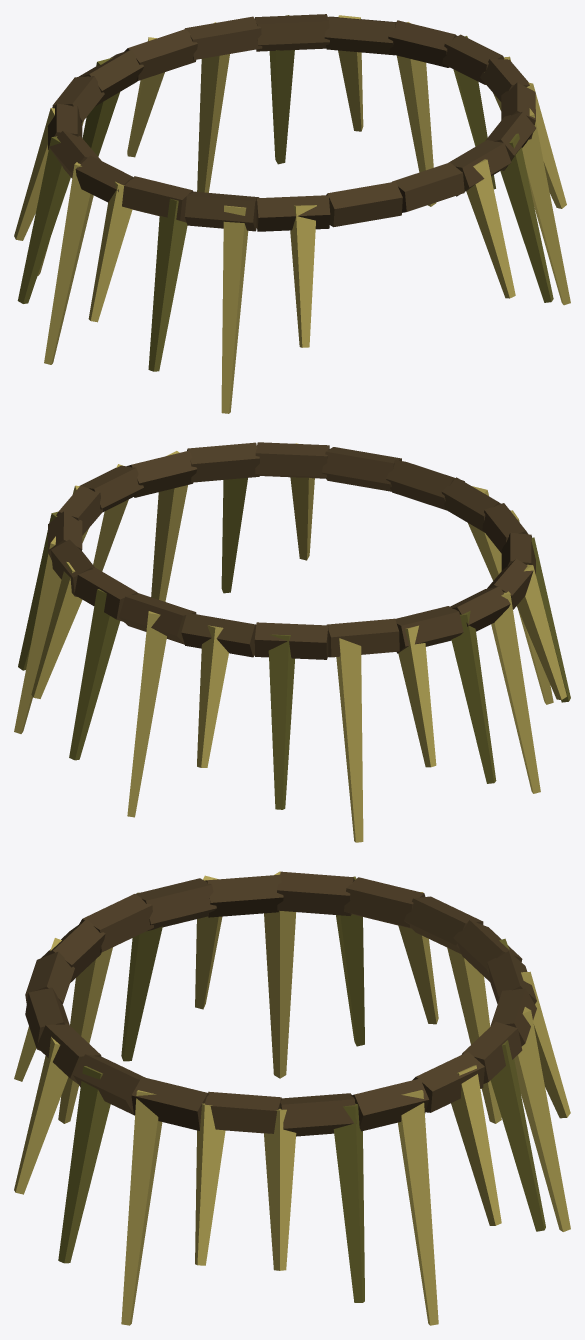
Rendered from pondkin_bloatking_skirt.glb.
3 renders of one model, top to bottom at view 1: azimuth 30°, elevation 25°; view 2: azimuth 150°, elevation 25°; view 3: azimuth 270°, elevation 25°, orthographic. The views are drawn at different scales.
Visible parts, largest first — view 1: pondkin_bloatking_skirt; view 2: pondkin_bloatking_skirt; view 3: pondkin_bloatking_skirt.
Boxes of the visible parts, x1,y1,x2,y2 form: pondkin_bloatking_skirt: (14,14,570,413); pondkin_bloatking_skirt: (14,442,570,842); pondkin_bloatking_skirt: (14,871,570,1325).
Bounding box in the file's own units: 1.26 × 0.4823 × 1.08.
